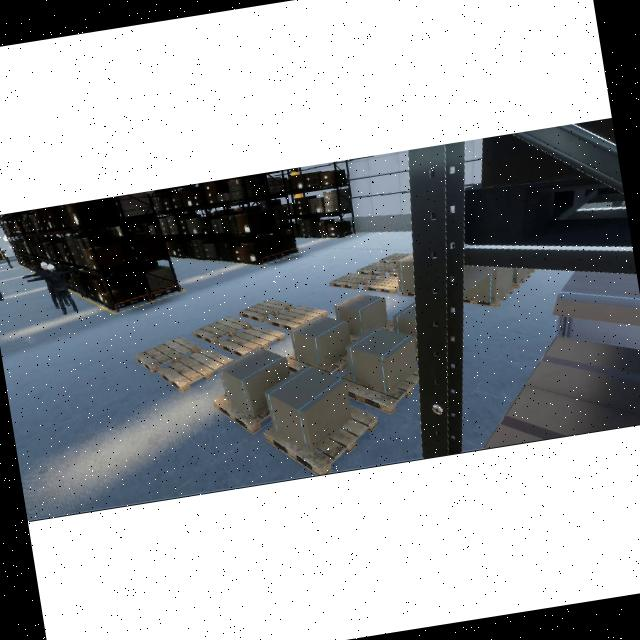wooden_pallet: (264, 406, 378, 476), (341, 368, 419, 415), (158, 348, 233, 392), (134, 335, 200, 373), (212, 394, 270, 435), (219, 325, 286, 358), (192, 316, 253, 345), (267, 305, 328, 331), (238, 299, 292, 322)
